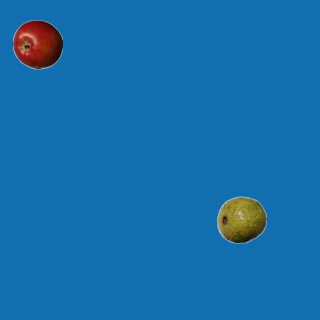Apple Braeburn: (12, 19, 62, 69)
Guava: (216, 194, 266, 244)
